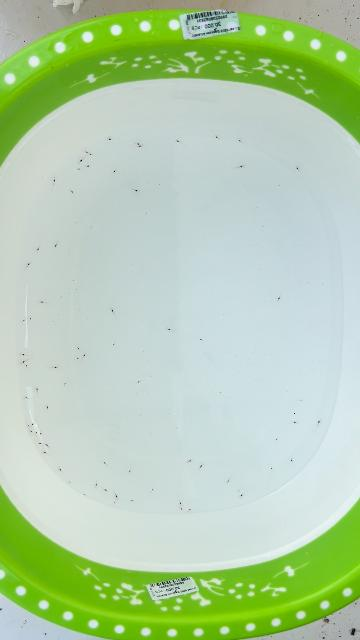benur: (295, 165, 299, 171), (214, 135, 220, 139), (78, 159, 82, 165), (134, 189, 140, 193), (240, 165, 245, 169), (135, 141, 140, 145), (53, 177, 57, 182), (28, 260, 32, 265), (20, 352, 25, 356), (20, 361, 25, 365), (39, 430, 43, 435), (104, 488, 108, 493), (238, 494, 243, 498), (200, 463, 204, 468), (135, 381, 140, 385), (139, 144, 143, 148), (87, 164, 91, 168), (113, 169, 117, 173), (69, 189, 73, 193), (36, 248, 40, 252), (77, 347, 81, 351), (83, 353, 87, 357), (30, 423, 34, 427), (44, 442, 48, 446), (42, 450, 46, 454), (54, 244, 57, 249), (54, 366, 59, 369), (24, 396, 29, 399), (58, 466, 61, 471), (115, 494, 118, 499), (110, 307, 113, 312), (277, 297, 280, 302), (237, 139, 241, 142), (107, 138, 111, 141), (84, 150, 88, 153), (25, 364, 28, 368), (36, 387, 39, 391), (27, 424, 30, 428), (37, 441, 41, 444), (67, 480, 71, 483), (180, 502, 183, 506), (187, 509, 191, 512), (226, 480, 229, 484), (189, 459, 193, 462), (102, 461, 106, 464), (128, 470, 131, 474), (318, 419, 321, 423), (294, 421, 298, 424), (166, 327, 170, 330), (199, 338, 203, 341), (174, 140, 179, 142), (89, 153, 92, 156), (77, 167, 80, 170), (40, 300, 43, 303), (22, 320, 25, 323), (35, 431, 38, 434), (113, 501, 116, 504), (180, 507, 183, 510), (275, 438, 278, 441), (46, 405, 48, 409), (95, 484, 97, 488), (131, 500, 135, 502), (151, 488, 153, 492), (270, 466, 272, 470), (291, 459, 293, 463), (113, 342, 115, 346), (30, 317, 32, 320), (77, 357, 80, 359), (64, 382, 66, 385), (30, 429, 32, 432), (83, 493, 86, 495), (237, 490, 239, 492), (293, 413, 295, 414), (300, 400, 302, 401)
